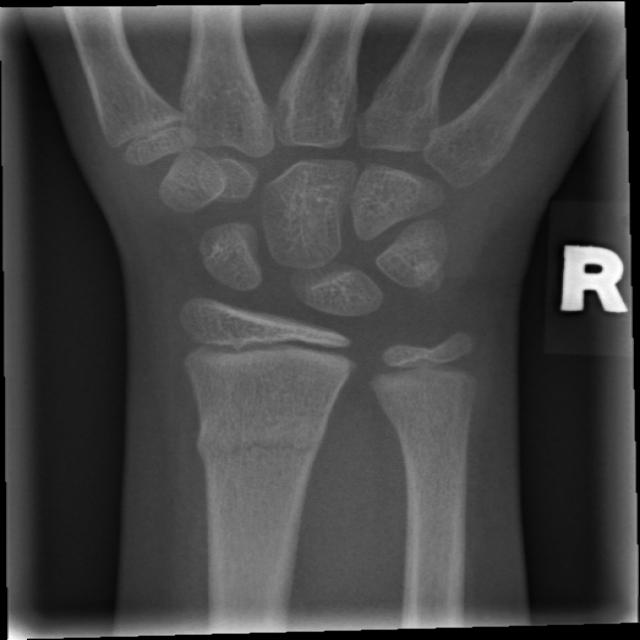radius fracture: (179, 390, 349, 496)
